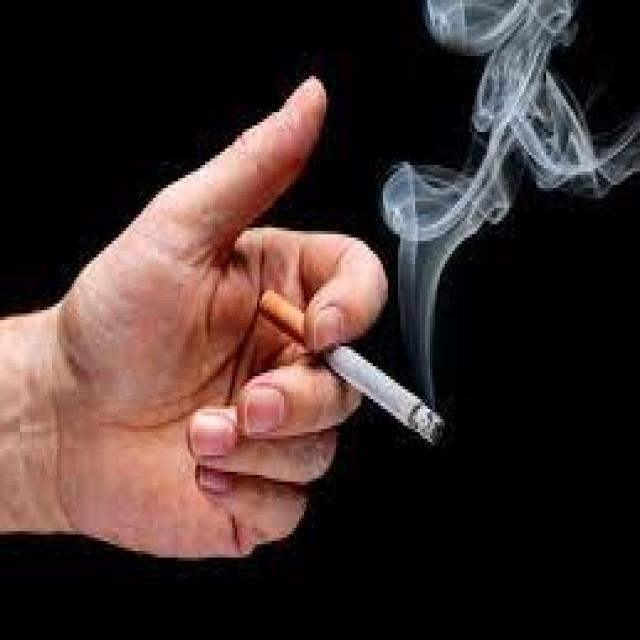rokok: (255, 286, 443, 448)
